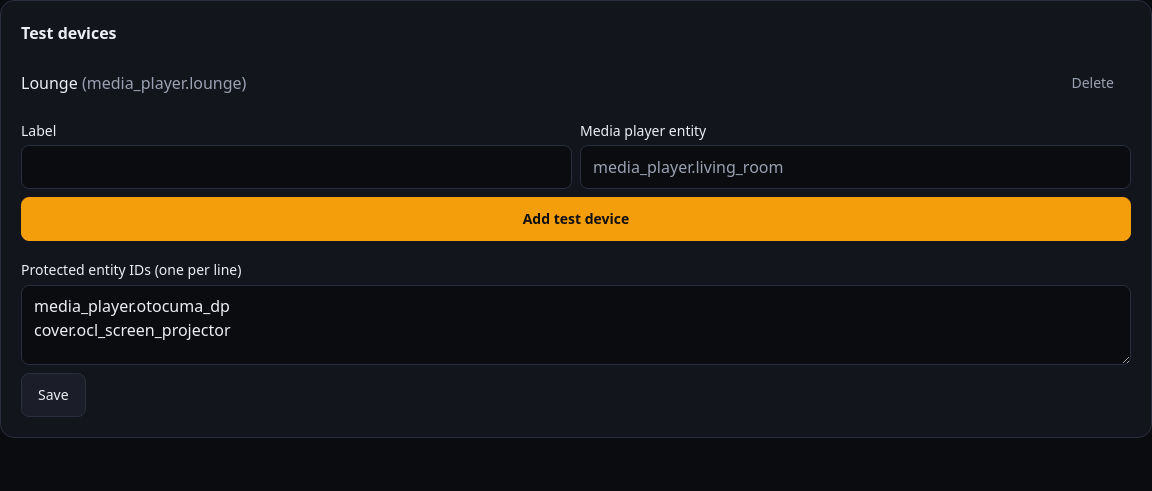
Test: TestTargets › rejects a duplicate entity_id
Type "Again" into the field with id "target-label" at (296, 167), box [21,145,572,189]
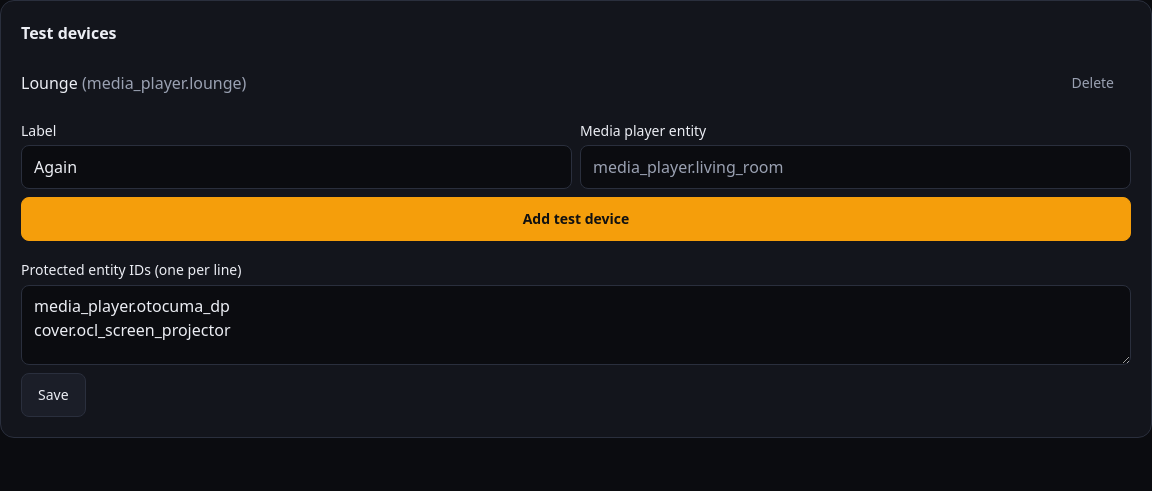
Type "media_player.lounge" into the field with id "target-entity" at (856, 167), box [580,145,1131,189]
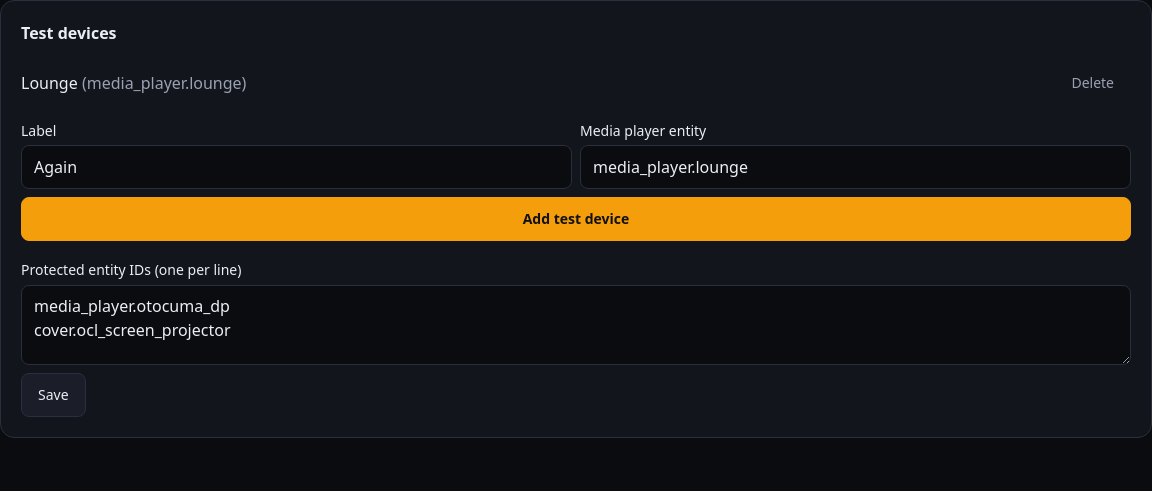
Submit the form, box [21,121,1131,241]
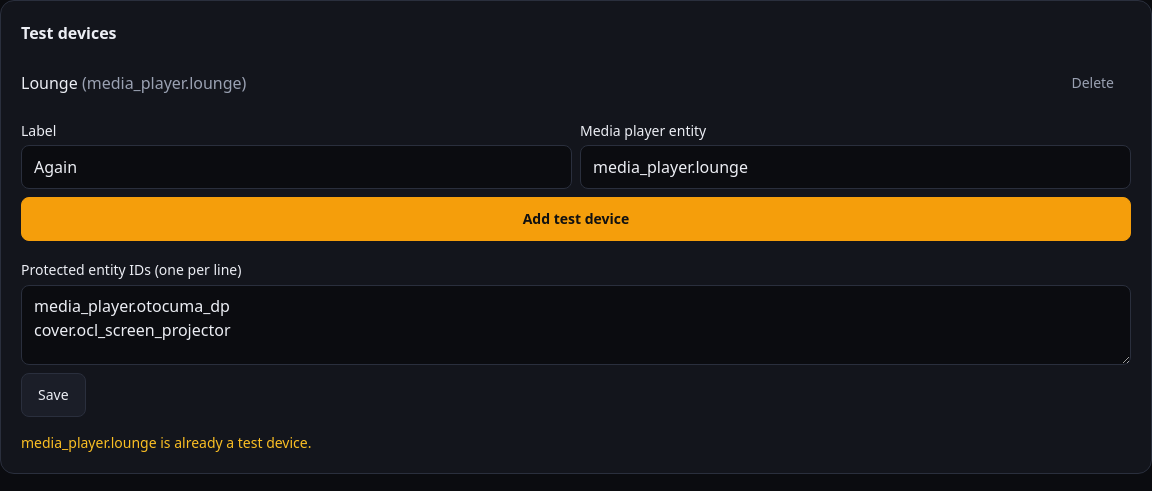
expect the text "already a test device" is shown: met, box [21,433,312,452]
